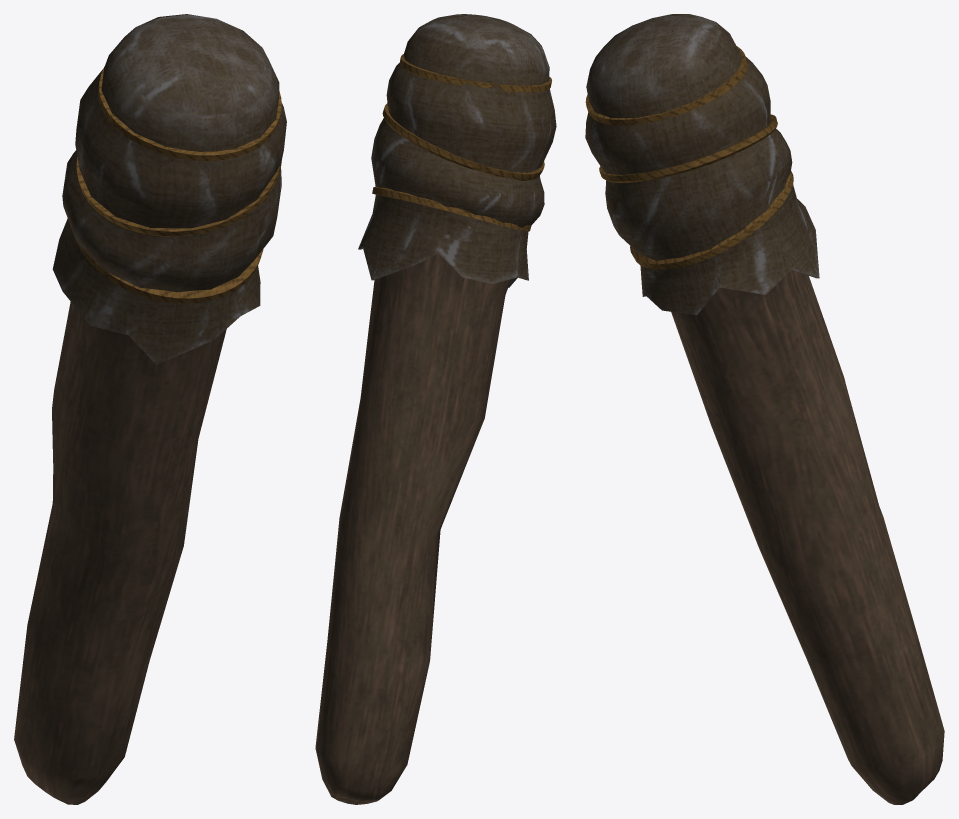
The model's file is Torch.fbx.
3 views of the same model, side by side, from view 1: azimuth 30°, elevation 25°; view 2: azimuth 150°, elevation 25°; view 3: azimuth 270°, elevation 25° (orthographic). The views are drawn at different scales.
Parts seen in each view (by area): view 1: Cylinder; view 2: Cylinder; view 3: Cylinder.
Part boxes in pixels (<box>): Cylinder: <box>14,14,286,804</box>; Cylinder: <box>315,14,556,804</box>; Cylinder: <box>585,14,944,804</box>.
Size of the model in its own units: 15.86 by 69.47 by 29.38.
1 material, 1 textured.
